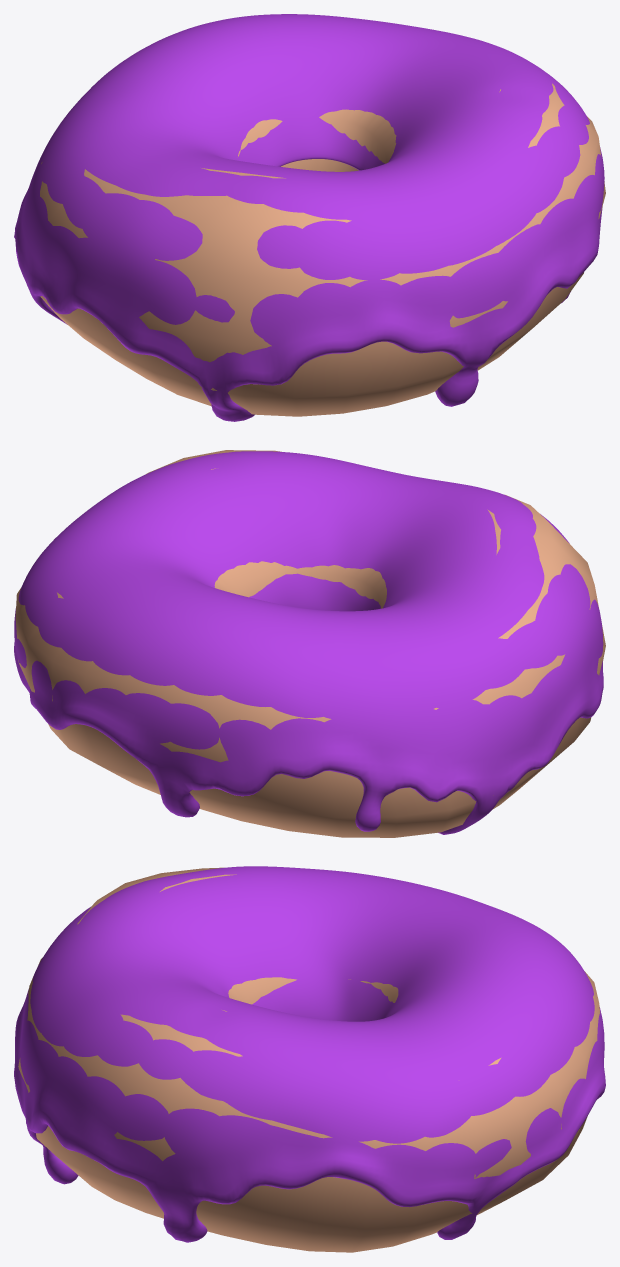
The model's file is Donut.glb.
The picture shows the model from 3 angles, top to bottom: view 1: azimuth 30°, elevation 25°; view 2: azimuth 150°, elevation 25°; view 3: azimuth 270°, elevation 25°; orthographic projection. The views are drawn at different scales.
Visible parts, largest first — view 1: Icing, Donut; view 2: Icing, Donut; view 3: Icing, Donut.
Part boxes in pixels (x1,y1,x2,y2): Icing: [14, 14, 604, 421]; Donut: [40, 83, 605, 416]; Icing: [14, 451, 603, 834]; Donut: [15, 450, 605, 837]; Icing: [14, 866, 605, 1242]; Donut: [18, 867, 600, 1252].
Size of the model in its own units: 1.39 by 0.5972 by 1.35.
